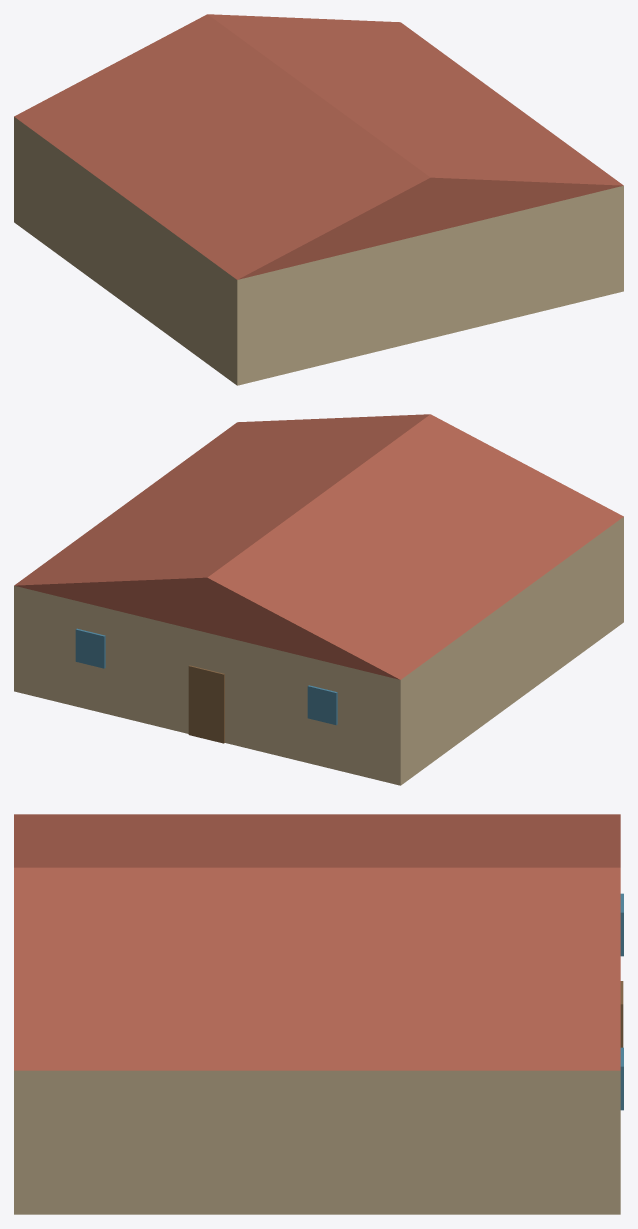
File: landmark_palace.glb
The picture shows the model from 3 angles, top to bottom: view 1: azimuth 30°, elevation 25°; view 2: azimuth 150°, elevation 25°; view 3: azimuth 270°, elevation 25°; orthographic projection. The views are drawn at different scales.
Size of the model in its own units: 8.8 by 3.5 by 8.85.
